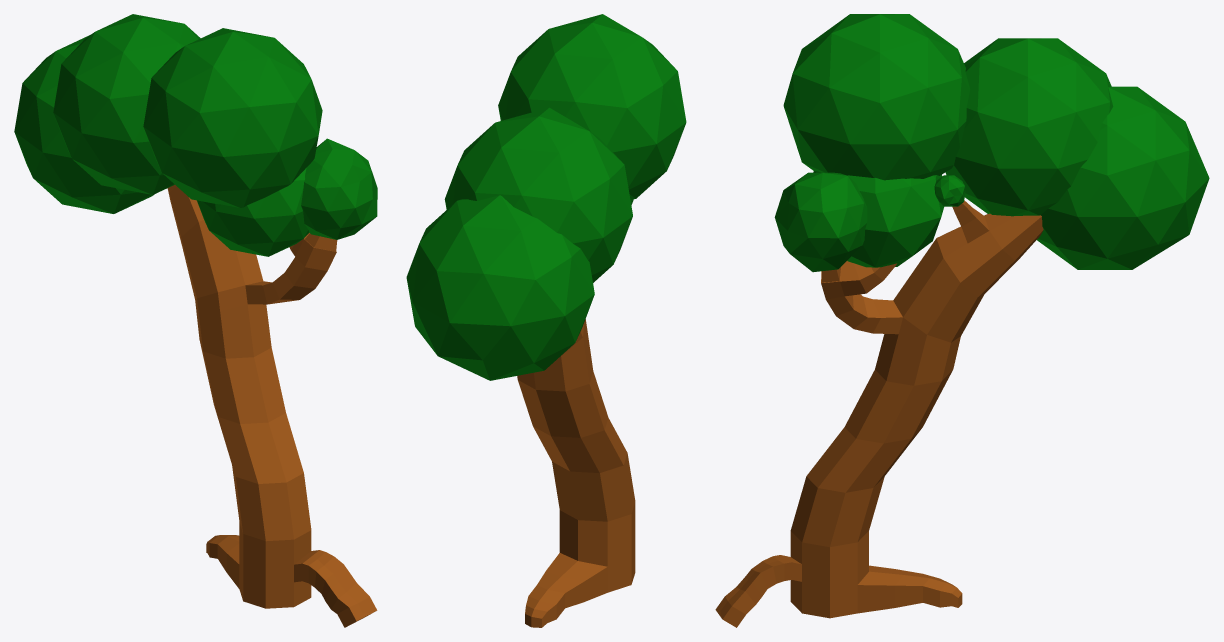
File: Arbol4.fbx
3 renders of one model, left to right at view 1: azimuth 30°, elevation 25°; view 2: azimuth 150°, elevation 25°; view 3: azimuth 270°, elevation 25°, orthographic. The views are drawn at different scales.
Visible parts, largest first — view 1: Cylinder.031, Icosphere.010, Icosphere.013, Icosphere.014, Icosphere.009, Icosphere.011; view 2: Icosphere.014, Cylinder.031, Icosphere.010, Icosphere.013; view 3: Cylinder.031, Icosphere.010, Icosphere.013, Icosphere.014, Icosphere.009, Icosphere.011, Icosphere.012.
Boxes of the visible parts, x1,y1,x2,y2 form: Cylinder.031: (167,185,377,627); Icosphere.010: (143,28,322,207); Icosphere.013: (53,14,200,194); Icosphere.014: (14,35,154,213); Icosphere.009: (301,138,377,239); Icosphere.011: (197,168,309,256); Icosphere.014: (406,195,594,380); Cylinder.031: (517,319,635,627); Icosphere.010: (498,14,686,199); Icosphere.013: (444,107,632,282); Cylinder.031: (715,200,1043,627); Icosphere.010: (783,14,970,180); Icosphere.013: (945,38,1113,216); Icosphere.014: (1037,86,1209,269); Icosphere.009: (774,172,867,272); Icosphere.011: (813,171,943,267); Icosphere.012: (934,175,965,206).
Size of the model in its own units: 199 by 500 by 384.
